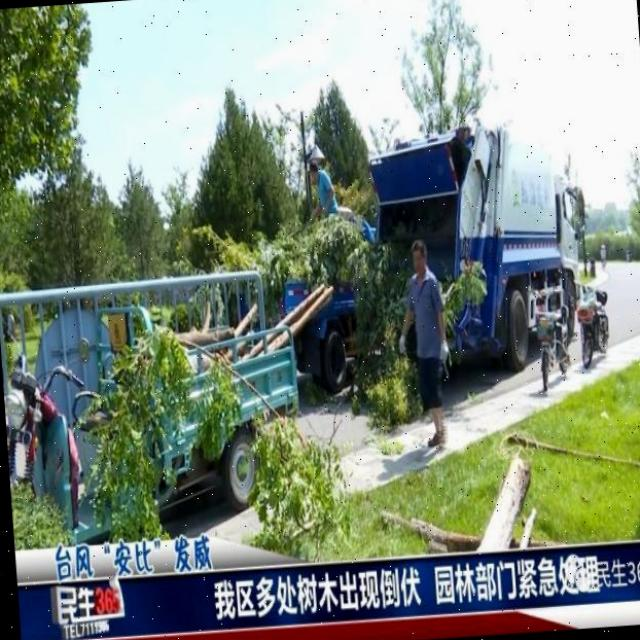fallen_object: (72, 319, 311, 541)
